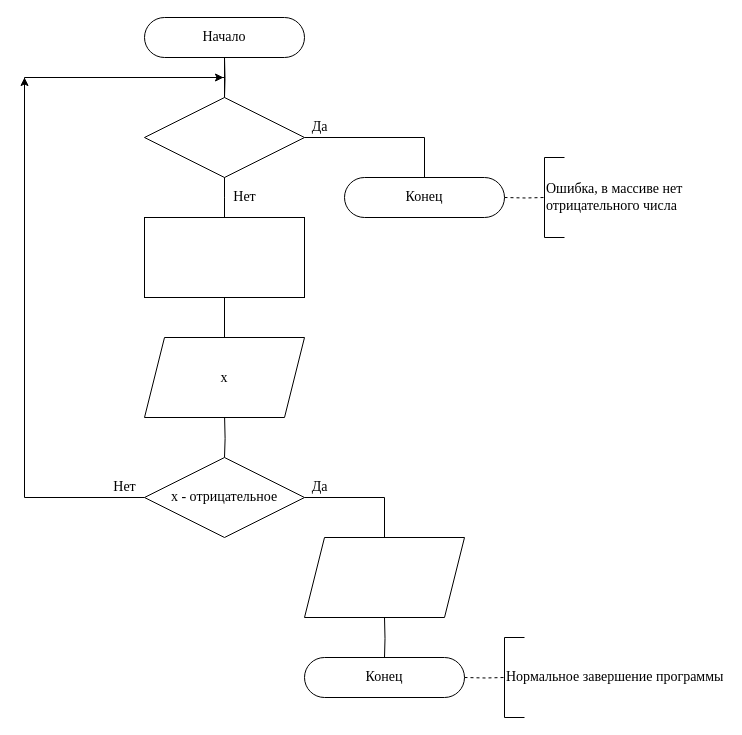
This 742x735 diagram has some shape labels left out. The shapes that lost their labels are listed below. From the top down, each one's centre as x and y in pixels, then its label:
the point at 224,137: Числа закончились
the point at 224,257: Берём следующее число
the point at 384,577: вывод номера x
